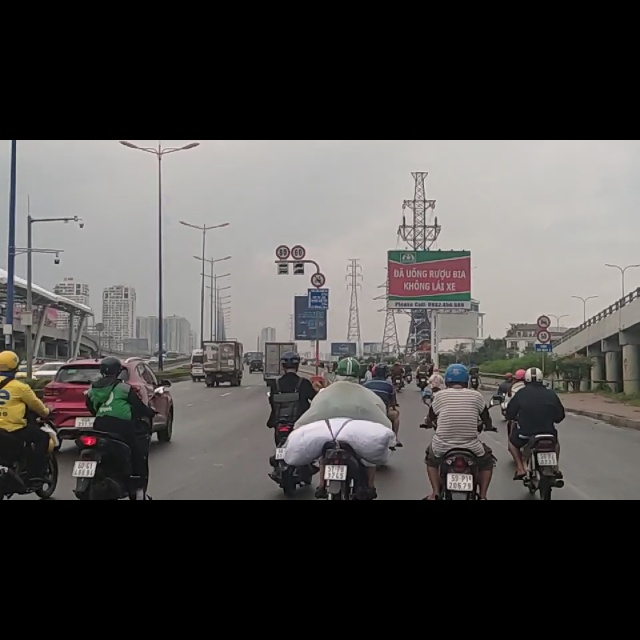bien_cam: (309, 236, 327, 260), (291, 187, 306, 213), (537, 335, 551, 361), (275, 186, 289, 211), (537, 313, 551, 337)
